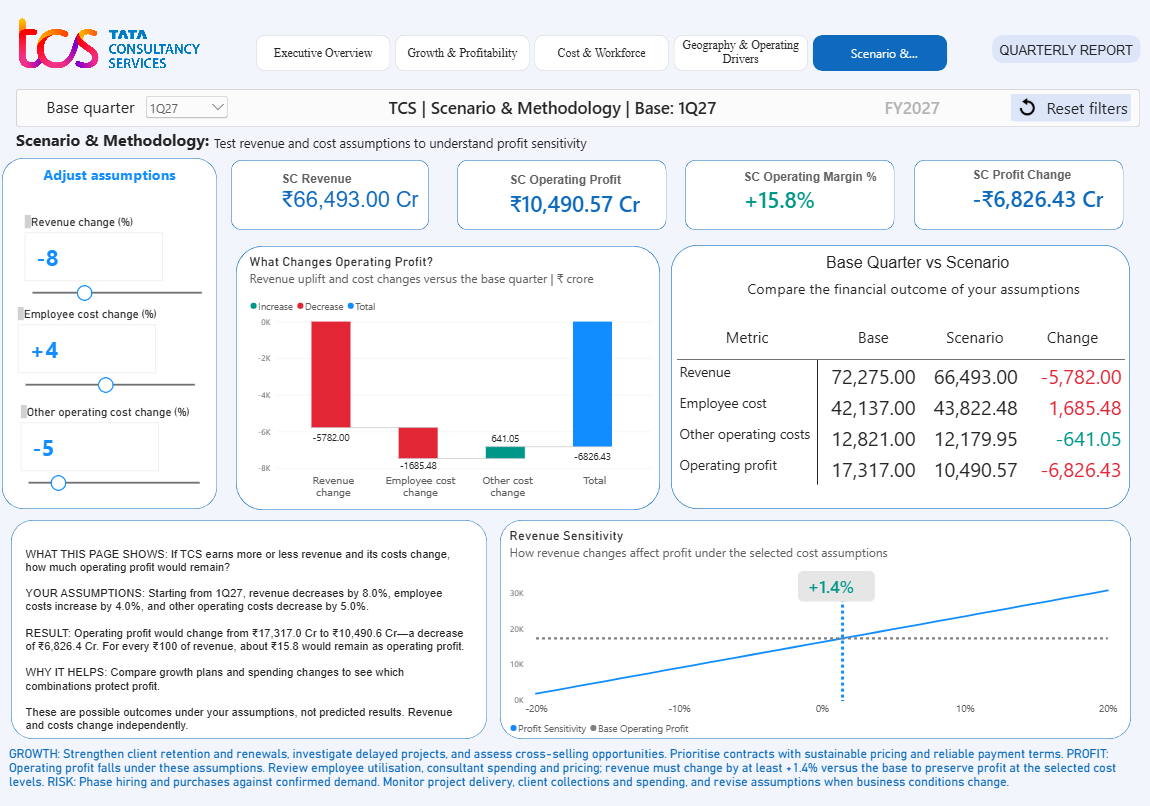

Layout of this report page (visuals, bound fields, positions):
{"tool":"powerbi","page":{"name":"Scenario & Methodology","canvas":[1920,1380],"ordinal":4},"visuals":[{"type":"shape","box":[20,868.3,793.3,365],"z":0},{"type":"shape","box":[386.7,268.3,330,116.7],"z":1000},{"type":"shape","box":[835,868.3,1051.7,365],"z":2000},{"type":"shape","box":[762.5,268.3,349.2,116.7],"z":3000},{"type":"shape","box":[1120,410,765,440],"z":4000},{"type":"shape","box":[4.3,265.7,358.3,585],"z":5000},{"type":"shape","box":[1142.5,268.3,349.2,116.7],"z":6000},{"type":"shape","box":[29.1,149.5,1873.3,63.3],"z":7000},{"type":"textbox","box":[1687.1,158.2,199.6,45.7],"z":8000,"group":"g1"},{"type":"shape","box":[1525,268.3,349.2,116.7],"z":8000},{"type":"image","box":[20,0,328.3,148.3],"z":9000},{"type":"image","box":[1694.1,165.6,40.9,29.1],"z":9000,"group":"g1"},{"type":"pageNavigator","box":[429.1,60.7,1154.6,60.3],"z":10000},{"type":"slicer","fields":{"Values":["DimQuarter.PERIOD"]},"box":[240,156.7,145.9,54.9],"z":11000},{"type":"textbox","box":[48.3,161.7,208.3,51.7],"z":12000},{"type":"actionButton","box":[1687.4,157.7,199.1,46.1],"z":13000},{"type":"group","id":"g1","title":"Group 1","box":[1687.1,158.2,199.6,45.7],"z":14000},{"type":"textbox","box":[28,216,372,84],"z":15000},{"type":"cardVisual","fields":{"Data":["_m4.SC Page Title"]},"box":[632.8,148.8,752.7,63.6],"z":16000},{"type":"cardVisual","fields":{"Data":["_m.AutoFilterYear"]},"box":[1459.3,132.7,170,93.3],"z":17000},{"type":"shape","box":[1654.4,60.6,247.8,46.7],"z":18000},{"type":"textbox","box":[1638.3,75,280,31.7],"z":19000},{"type":"textbox","box":[357.8,225.6,712.2,40],"z":20000},{"type":"slicer","fields":{"Values":["Revenue Change.Revenue Change"]},"box":[35.7,360,321.4,168.6],"z":21000},{"type":"slicer","fields":{"Values":["Employee Cost Change.Employee Cost Change"]},"box":[22.9,512.9,321.4,150],"z":22000},{"type":"slicer","fields":{"Values":["Other Cost Change.Other Cost Change"]},"box":[28.6,677.1,324.3,174.3],"z":23000},{"type":"textbox","box":[22.9,274.3,321.4,51.4],"z":24000},{"type":"cardVisual","fields":{"Data":["_m4.SC Revenue"]},"box":[455,268.3,285,110],"z":25000},{"type":"cardVisual","fields":{"Data":["_m4.SC Operating Profit"]},"box":[835,276.7,266.7,103.3],"z":26000},{"type":"cardVisual","fields":{"Data":["_m4.SC Operating Margin %"]},"box":[1225,265,300,116.7],"z":27000},{"type":"cardVisual","fields":{"Data":["_m4.SC Profit Change"]},"box":[1606.7,258.3,278.3,123.3],"z":28000},{"type":"shape","box":[395,411.7,706.7,440],"z":29000},{"type":"waterfallChart","title":"What Changes Operating Profit?","fields":{"Category":["ScenarioBridge.Driver"],"Y":["_m4.SC Bridge Value"]},"box":[401.7,411.7,701.7,438.3],"z":30000},{"type":"pivotTable","fields":{"Rows":["ScenarioRows.Metric"],"Values":["_m4.SC Comparison Base","_m4.SC Comparison Scenario","_m4.SC Comparison Change"]},"box":[1113.3,528.3,805,308.3],"z":31000},{"type":"lineChart","title":"Revenue Sensitivity","fields":{"Category":["ScenarioRevenueAxis.Revenue Change %"],"Y":["_m4.SC Profit Sensitivity","_m4.SC Base Operating Profit"]},"box":[835,868.3,1045,378.3],"z":32000},{"type":"textbox","box":[1175,425,712.2,40],"z":33000},{"type":"textbox","box":[1168.3,465,712.2,40],"z":34000},{"type":"cardVisual","fields":{"Data":["_m4.SC Revenue Growth to Preserve Profit %"]},"box":[1331.7,953.3,128.3,51.7],"z":35000},{"type":"cardVisual","fields":{"Data":["_m4.SC Business Explanation"]},"box":[28.3,850,765,436.7],"z":36000},{"type":"cardVisual","fields":{"Data":["_m4.SC Business Suggestions"]},"box":[16.7,1246.7,1868.3,133.3],"z":37000}]}

Visuals, with their boxes in screenshot pixels (x1, y1, x2, y2), scaled from the page's 1920x1380 canvas onto the 1150x806 screenshot:
shape: 12:507:487:720
shape: 232:157:429:225
shape: 500:507:1130:720
shape: 457:157:666:225
shape: 671:239:1129:496
shape: 3:155:217:497
shape: 684:157:893:225
shape: 17:87:1139:124
textbox: 1011:92:1130:119
shape: 913:157:1123:225
image: 12:0:209:87
image: 1015:97:1039:114
pageNavigator: 257:35:949:71
slicer - DimQuarter.PERIOD: 144:92:231:124
textbox: 29:94:154:125
actionButton: 1011:92:1130:119
"Group 1" group: 1011:92:1130:119
textbox: 17:126:240:175
cardVisual - _m4.SC Page Title: 379:87:830:124
cardVisual - _m.AutoFilterYear: 874:78:976:132
shape: 991:35:1139:63
textbox: 981:44:1149:62
textbox: 214:132:641:155
slicer - Revenue Change.Revenue Change: 21:210:214:309
slicer - Employee Cost Change.Employee Cost Change: 14:300:206:387
slicer - Other Cost Change.Other Cost Change: 17:395:211:497
textbox: 14:160:206:190
cardVisual - _m4.SC Revenue: 273:157:443:221
cardVisual - _m4.SC Operating Profit: 500:162:660:222
cardVisual - _m4.SC Operating Margin %: 734:155:913:223
cardVisual - _m4.SC Profit Change: 962:151:1129:223
shape: 237:240:660:497
"What Changes Operating Profit?" waterfallChart: 241:240:661:496
pivotTable - ScenarioRows.Metric x _m4.SC Comparison Base: 667:309:1149:489
"Revenue Sensitivity" lineChart: 500:507:1126:728
textbox: 704:248:1130:272
textbox: 700:272:1126:295
cardVisual - _m4.SC Revenue Growth to Preserve Profit %: 798:557:874:587
cardVisual - _m4.SC Business Explanation: 17:496:475:752
cardVisual - _m4.SC Business Suggestions: 10:728:1129:805
